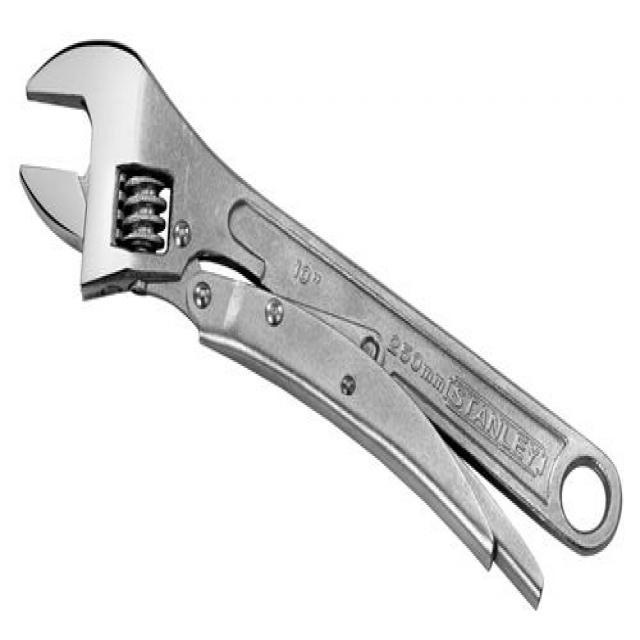wrench: (13, 34, 630, 616)
